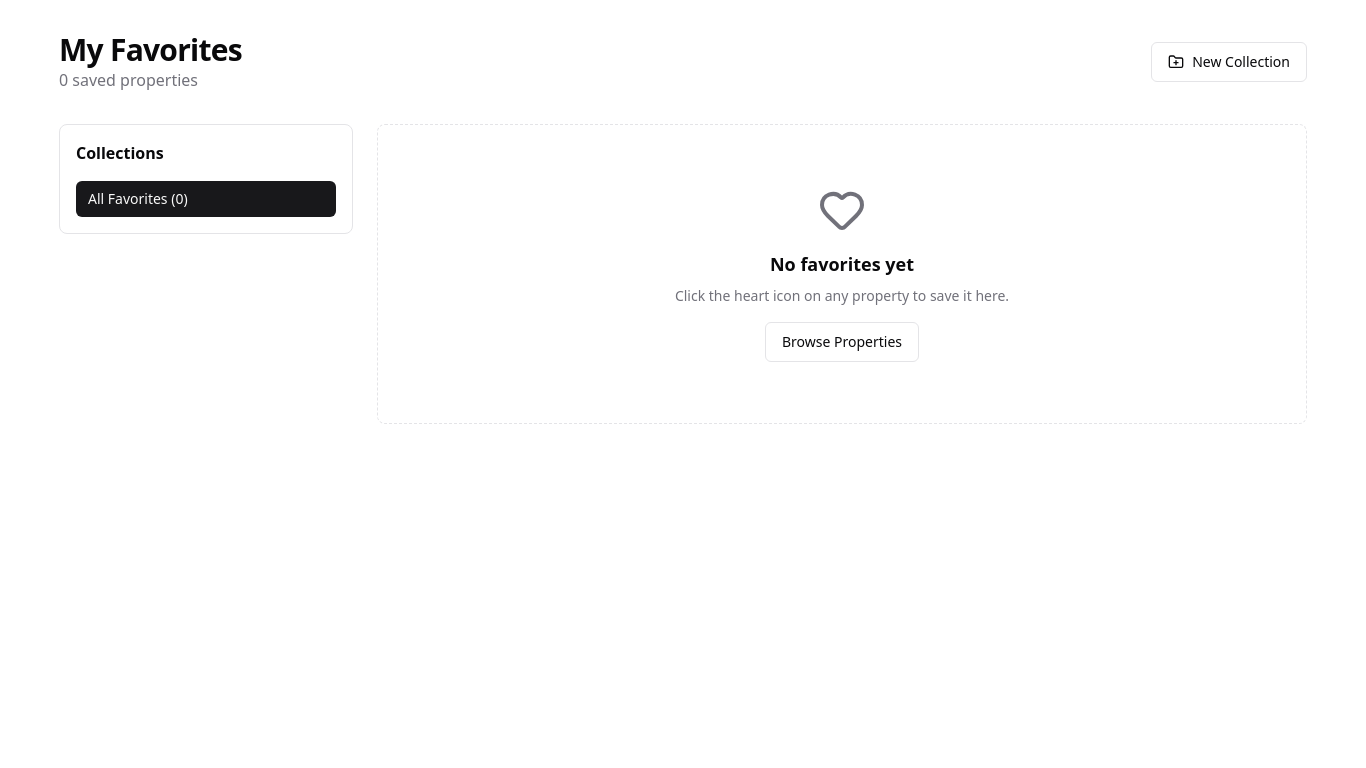
Test: FavoritesPage › opens new collection modal on button click
Click the button "New Collection". click: (1229, 62)
box: [1151,42,1307,82]
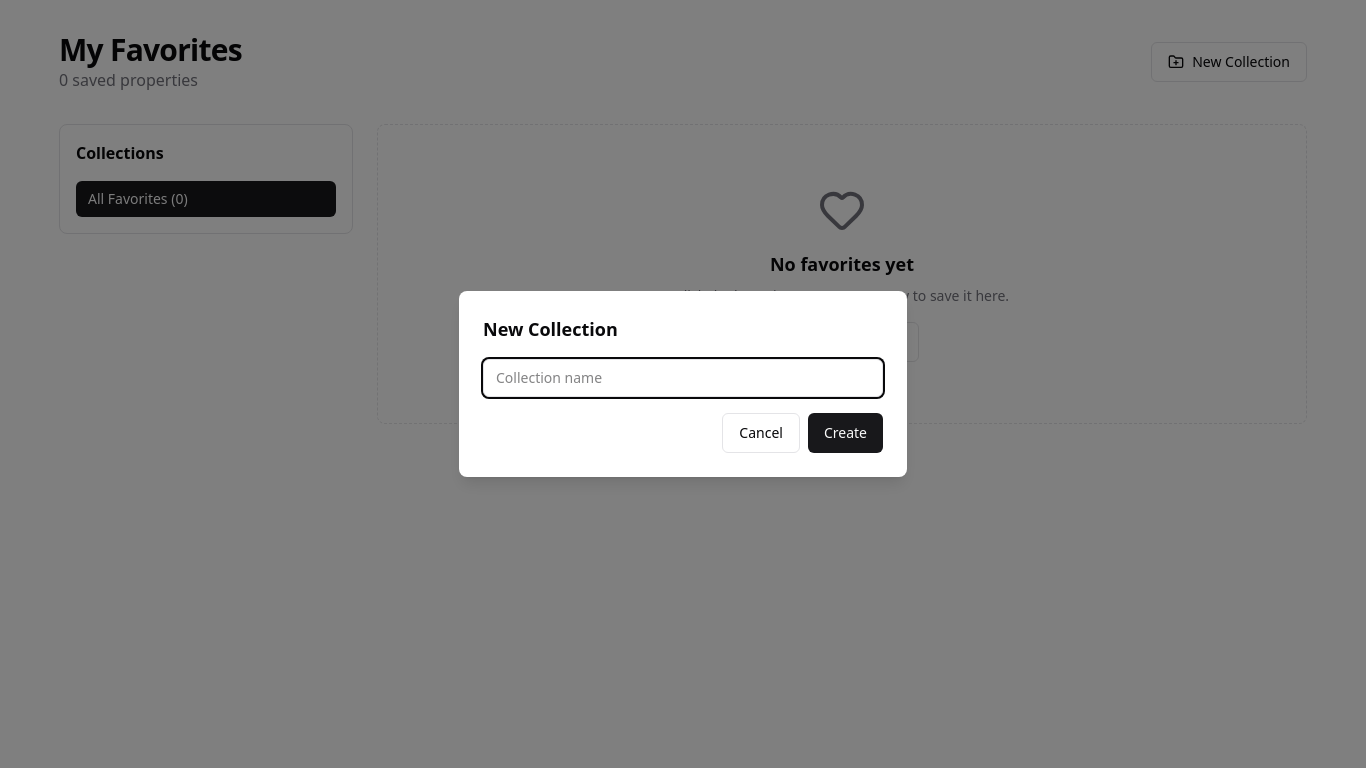
Result: the dialog is shown
Result: the button "Create" is shown at [808,413,883,453]
Result: the button "Cancel" is shown at [722,413,800,453]
